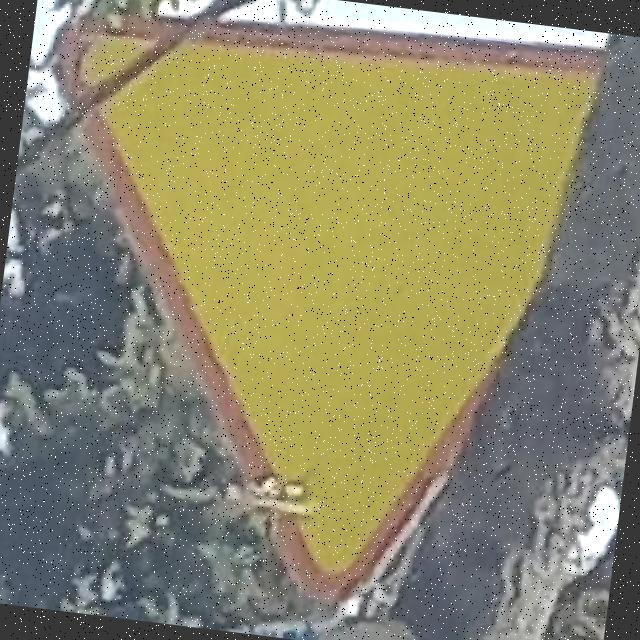Ustap pierwszenstwa: (0, 0, 607, 629)
